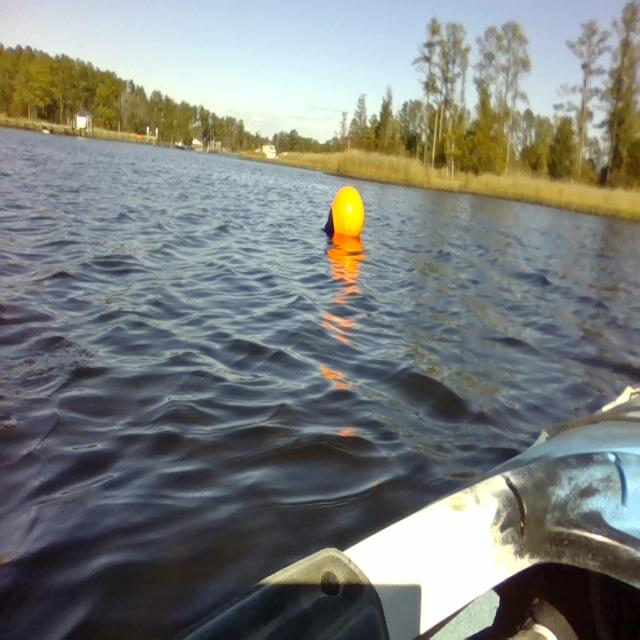Buoy: (322, 180, 371, 251)
